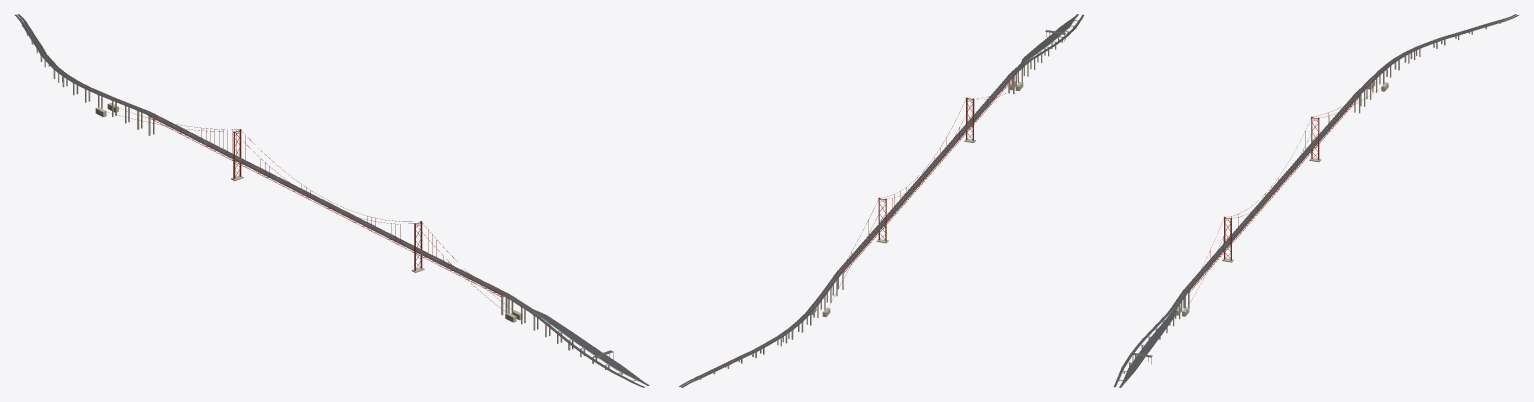
Rendered from ponte-25-de-abril-far.glb.
3 views of the same model, side by side, from view 1: azimuth 30°, elevation 25°; view 2: azimuth 150°, elevation 25°; view 3: azimuth 330°, elevation 25° (orthographic). The views are drawn at different scales.
Parts seen in each view (by area): view 1: ponte-25-de-abril-0-asphalt, ponte-25-de-abril-0-steel, ponte-25-de-abril-0-concrete; view 2: ponte-25-de-abril-0-asphalt, ponte-25-de-abril-0-steel, ponte-25-de-abril-0-concrete; view 3: ponte-25-de-abril-0-asphalt, ponte-25-de-abril-0-steel, ponte-25-de-abril-0-concrete.
Boxes of the visible parts, <box> form: ponte-25-de-abril-0-asphalt: <box>14,14,649,387</box>; ponte-25-de-abril-0-steel: <box>17,14,648,387</box>; ponte-25-de-abril-0-concrete: <box>21,23,638,383</box>; ponte-25-de-abril-0-asphalt: <box>679,14,1083,387</box>; ponte-25-de-abril-0-steel: <box>680,14,1083,387</box>; ponte-25-de-abril-0-concrete: <box>693,19,1078,380</box>; ponte-25-de-abril-0-asphalt: <box>1114,14,1518,387</box>; ponte-25-de-abril-0-steel: <box>1114,14,1517,387</box>; ponte-25-de-abril-0-concrete: <box>1118,20,1505,381</box>.
Size of the model in its own units: 567 by 191 by 3868.
